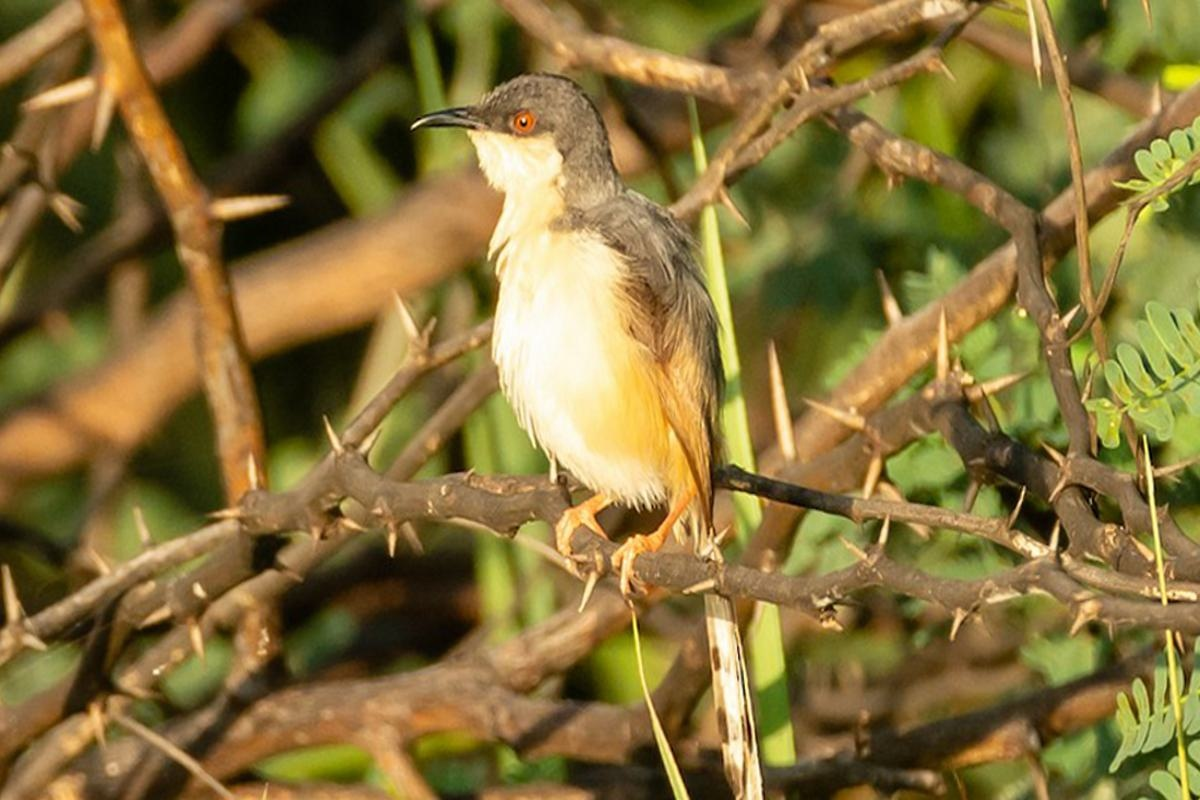tailorbird: (424, 50, 801, 701)
